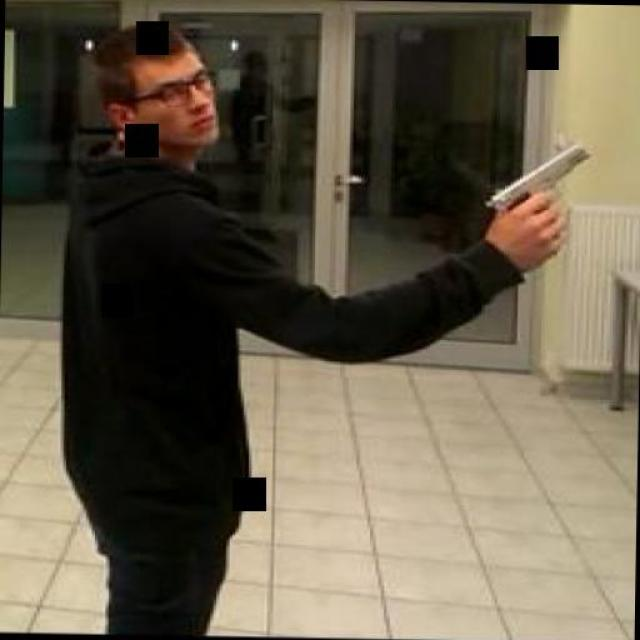gun: (478, 140, 596, 249)
